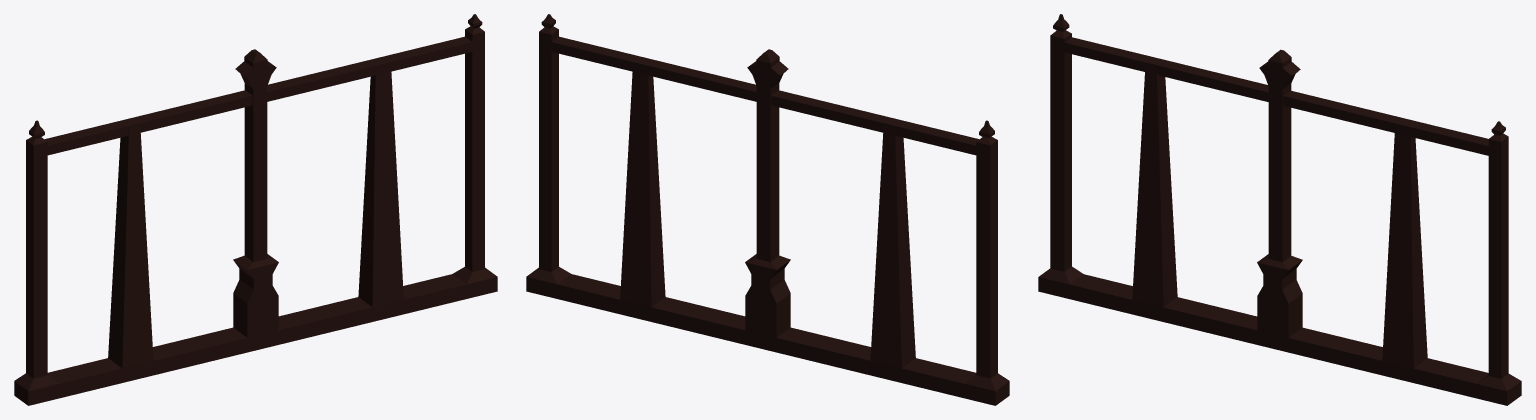
File: arch_railings.fbx
3 views of the same model, side by side, from view 1: azimuth 30°, elevation 25°; view 2: azimuth 150°, elevation 25°; view 3: azimuth 330°, elevation 25° (orthographic).
Visible parts, largest first — view 1: Cube; view 2: Cube; view 3: Cube.
Boxes of the visible parts, x1,y1,x2,y2 form: Cube: (14,14,497,405); Cube: (526,14,1009,405); Cube: (1038,14,1521,405).
Size of the model in its own units: 1441 by 857 by 75.52.
